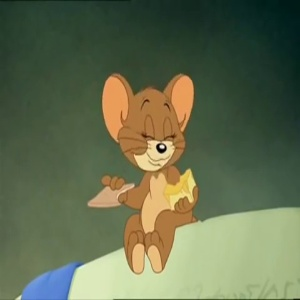Jerry: (96, 65, 199, 174)
